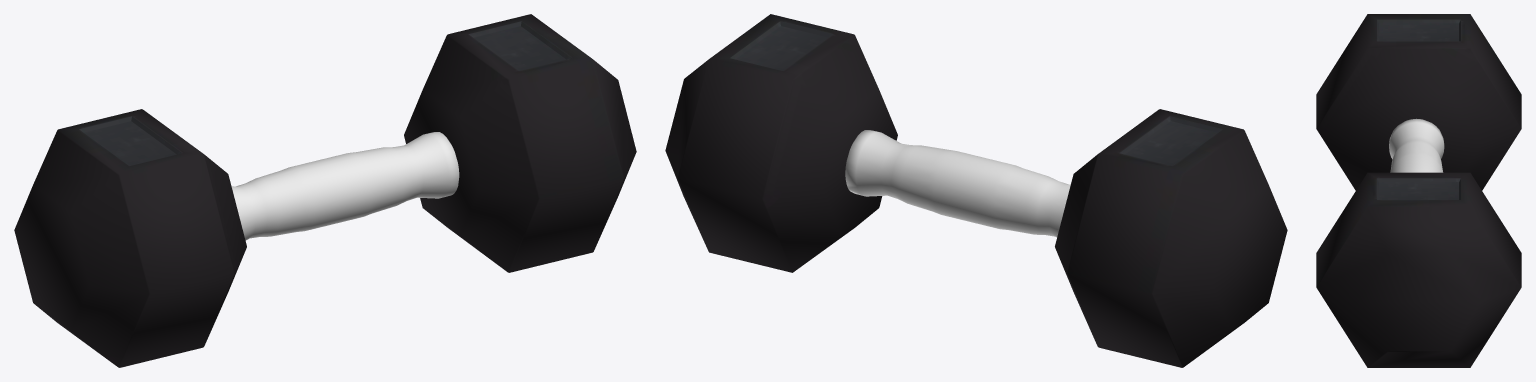
Rendered from haltere_b.glb.
3 renders of one model, left to right at view 1: azimuth 30°, elevation 25°; view 2: azimuth 150°, elevation 25°; view 3: azimuth 270°, elevation 25°, orthographic. The views are drawn at different scales.
Visible parts, largest first — view 1: RootNode; view 2: RootNode; view 3: RootNode.
Boxes of the visible parts, x1,y1,x2,y2 form: RootNode: (14,14,636,367); RootNode: (665,14,1287,367); RootNode: (1316,14,1521,367).
Size of the model in its own units: 0.2713 by 0.0919 by 0.1058.
1 material, 1 textured.
